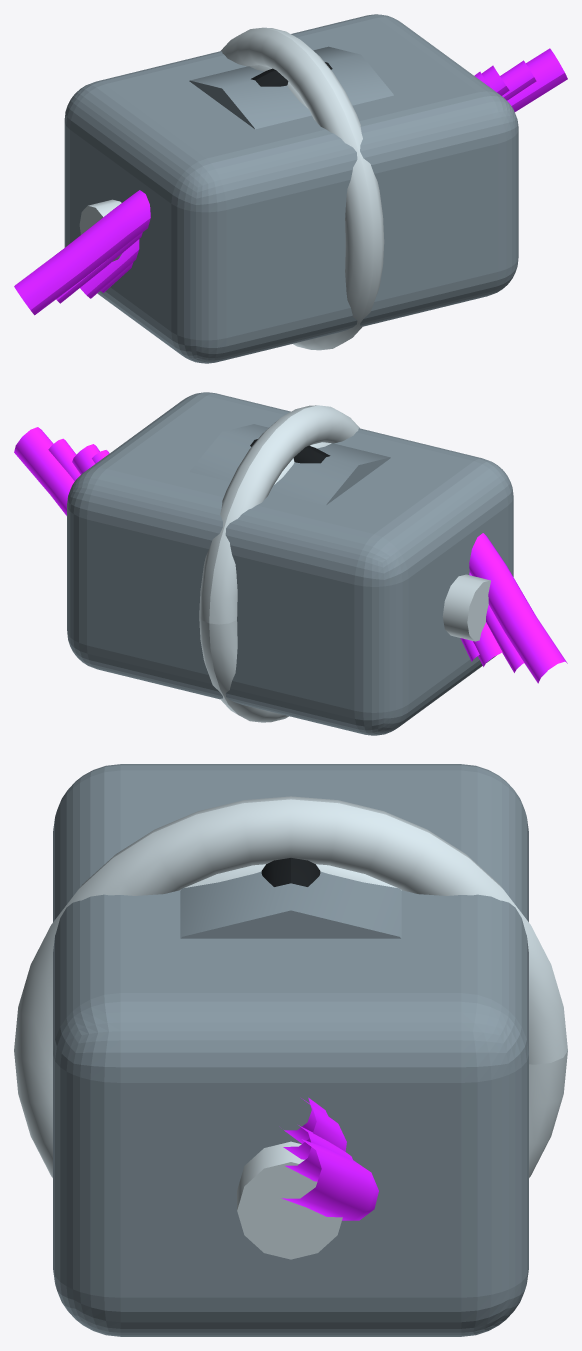
The model's file is electrical_02.glb.
3 renders of one model, top to bottom at view 1: azimuth 30°, elevation 25°; view 2: azimuth 150°, elevation 25°; view 3: azimuth 270°, elevation 25°, orthographic. The views are drawn at different scales.
Visible parts, largest first — view 1: asset_mesh__electrical_0080__reference_body, asset_mesh__electrical_0062__functional_ring, asset_mesh__electrical_0098__current_path, asset_mesh__electrical_0062__rotor, asset_mesh__electrical_0076__current_path, asset_mesh__electrical_0096__current_path, asset_mesh__electrical_0061__assembly_axis, asset_mesh__electrical_0094__service_element; view 2: asset_mesh__electrical_0080__reference_body, asset_mesh__electrical_0062__functional_ring, asset_mesh__electrical_0098__current_path, asset_mesh__electrical_0062__rotor, asset_mesh__electrical_0061__assembly_axis, asset_mesh__electrical_0096__current_path, asset_mesh__electrical_0076__current_path, asset_mesh__electrical_0094__service_element; view 3: asset_mesh__electrical_0080__reference_body, asset_mesh__electrical_0062__functional_ring, asset_mesh__electrical_0062__rotor, asset_mesh__electrical_0061__assembly_axis, asset_mesh__electrical_0098__current_path, asset_mesh__electrical_0094__service_element, asset_mesh__electrical_0085__functional_ring, asset_mesh__electrical_0076__current_path, asset_mesh__electrical_0096__current_path.
Boxes of the visible parts, x1,y1,x2,y2 form: asset_mesh__electrical_0080__reference_body: (64, 14, 518, 363); asset_mesh__electrical_0062__functional_ring: (221, 27, 384, 350); asset_mesh__electrical_0098__current_path: (14, 48, 567, 315); asset_mesh__electrical_0062__rotor: (189, 46, 393, 129); asset_mesh__electrical_0076__current_path: (80, 65, 509, 298); asset_mesh__electrical_0096__current_path: (56, 60, 536, 303); asset_mesh__electrical_0061__assembly_axis: (79, 199, 122, 261); asset_mesh__electrical_0094__service_element: (251, 62, 332, 86); asset_mesh__electrical_0080__reference_body: (67, 392, 513, 735); asset_mesh__electrical_0062__functional_ring: (199, 405, 359, 722); asset_mesh__electrical_0098__current_path: (14, 427, 567, 683); asset_mesh__electrical_0062__rotor: (190, 424, 390, 505); asset_mesh__electrical_0061__assembly_axis: (442, 574, 490, 641); asset_mesh__electrical_0096__current_path: (48, 438, 523, 672); asset_mesh__electrical_0076__current_path: (72, 444, 502, 666); asset_mesh__electrical_0094__service_element: (250, 439, 330, 463); asset_mesh__electrical_0080__reference_body: (53, 764, 528, 1336); asset_mesh__electrical_0062__functional_ring: (14, 796, 567, 1177); asset_mesh__electrical_0062__rotor: (180, 871, 401, 938); asset_mesh__electrical_0061__assembly_axis: (237, 1141, 342, 1259); asset_mesh__electrical_0098__current_path: (281, 1139, 378, 1220); asset_mesh__electrical_0094__service_element: (261, 858, 320, 886); asset_mesh__electrical_0085__functional_ring: (180, 864, 401, 890); asset_mesh__electrical_0076__current_path: (283, 1098, 346, 1159); asset_mesh__electrical_0096__current_path: (285, 1125, 352, 1181).
Size of the model in its own units: 1.73 by 0.8996 by 0.8996.
